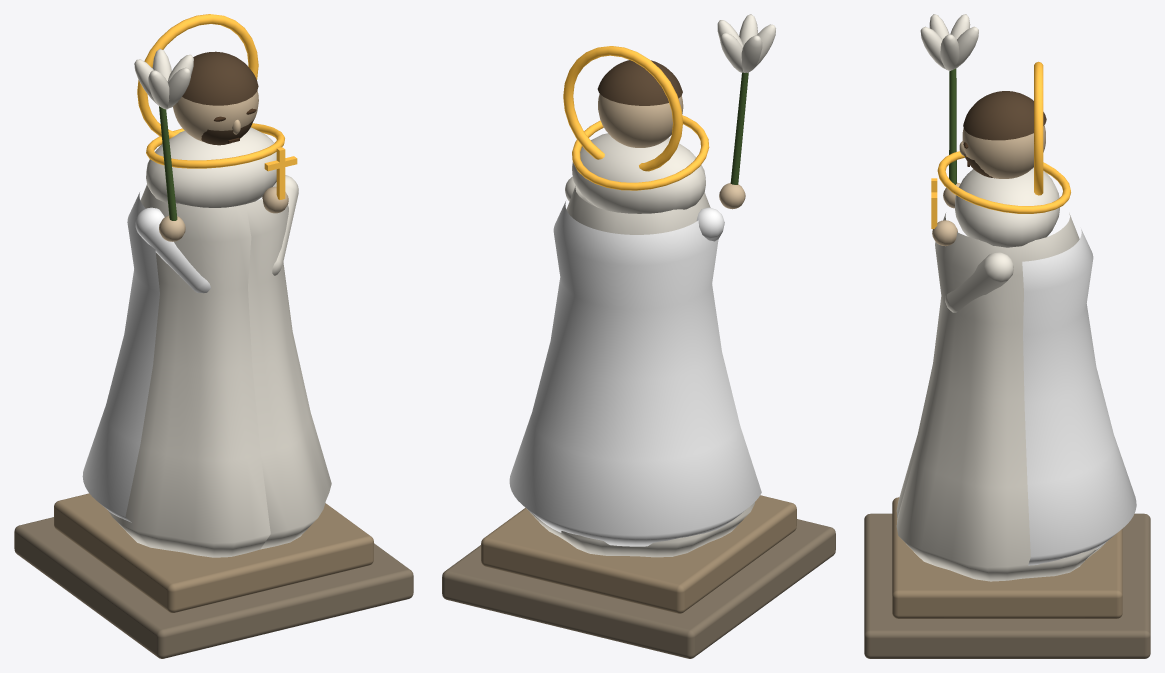
File: statue-joseph-lily.glb
3 views of the same model, side by side, from view 1: azimuth 30°, elevation 25°; view 2: azimuth 150°, elevation 25°; view 3: azimuth 270°, elevation 25° (orthographic). The views are drawn at different scales.
Parts seen in each view (by area): view 1: Robe, PlinthLow, PlinthTop, Cloak, Shoulders, Hair, object 26, Head, ArmL, object 5, LilyPetal (×2), object 19 (+2 smaller); view 2: Cloak, PlinthLow, PlinthTop, Shoulders, Robe, object 26, Head, Hair, object 5, LilyPetal (×2), object 19, ArmL; view 3: Robe, Cloak, PlinthLow, PlinthTop, Shoulders, Hair, Head, ArmR, object 5, LilyPetal (×3), object 26, object 19 (+1 smaller).
Boxes of the visible parts, bbox=[...] form: Robe: bbox=[108, 185, 331, 557]; PlinthLow: bbox=[14, 517, 413, 658]; PlinthTop: bbox=[54, 493, 373, 612]; Cloak: bbox=[82, 192, 159, 522]; Shoulders: bbox=[146, 127, 276, 207]; Hair: bbox=[182, 51, 258, 105]; object 26: bbox=[137, 14, 258, 138]; Head: bbox=[173, 90, 258, 141]; ArmL: bbox=[135, 207, 210, 293]; object 5: bbox=[146, 123, 284, 168]; LilyPetal (×2): bbox=[148, 67, 190, 109]; object 19: bbox=[159, 106, 177, 220]; Cloak: bbox=[509, 201, 761, 546]; PlinthLow: bbox=[442, 519, 835, 658]; PlinthTop: bbox=[481, 495, 796, 613]; Shoulders: bbox=[572, 133, 705, 213]; Robe: bbox=[526, 186, 754, 557]; object 26: bbox=[563, 46, 682, 171]; Head: bbox=[598, 94, 683, 147]; Hair: bbox=[597, 60, 682, 105]; object 5: bbox=[572, 115, 709, 190]; LilyPetal (×2): bbox=[720, 32, 762, 72]; object 19: bbox=[730, 72, 748, 184]; ArmL: bbox=[696, 207, 724, 241]; Robe: bbox=[896, 213, 1105, 581]; Cloak: bbox=[1022, 229, 1136, 565]; PlinthLow: bbox=[864, 513, 1150, 658]; PlinthTop: bbox=[892, 497, 1122, 618]; Shoulders: bbox=[955, 167, 1059, 247]; Hair: bbox=[963, 91, 1046, 140]; Head: bbox=[962, 125, 1045, 178]; ArmR: bbox=[945, 252, 1013, 312]; object 5: bbox=[937, 151, 1070, 213]; LilyPetal (×3): bbox=[920, 26, 978, 70]; object 26: bbox=[1034, 61, 1043, 195]; object 19: bbox=[949, 68, 956, 184].
Bounding box in the file's own units: 0.92 × 1.91 × 0.92.
